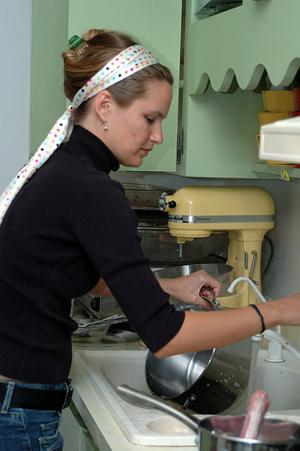person: (2, 30, 300, 448)
